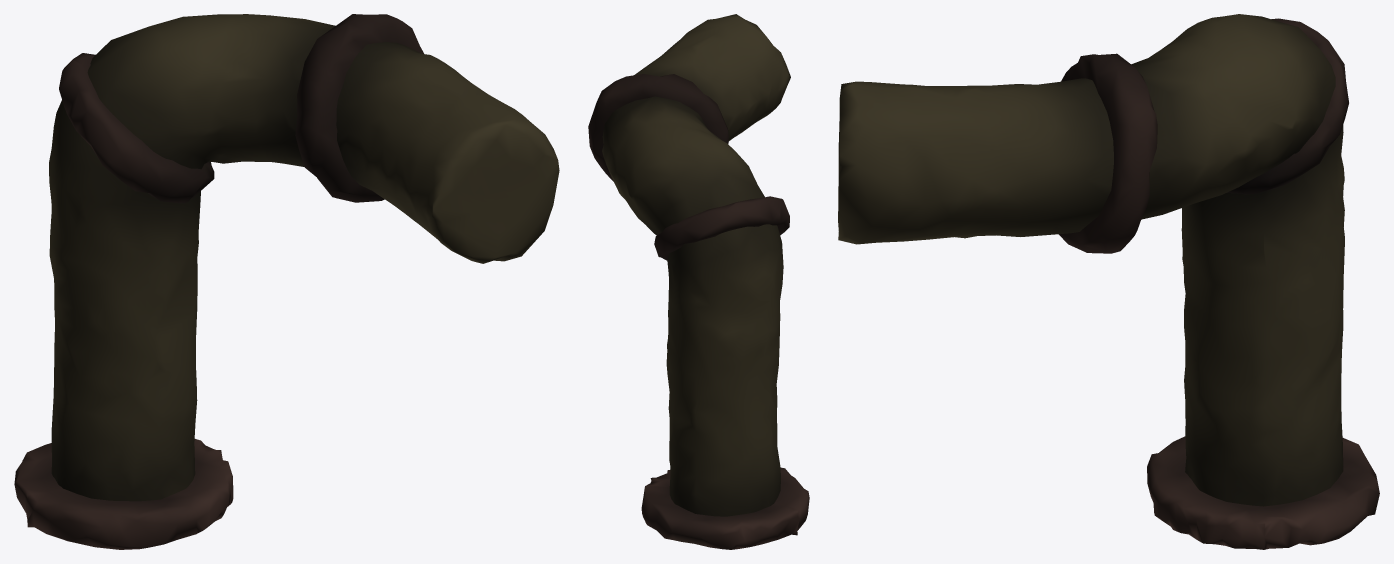
Rendered from msh_Pipe_02.fbx.
3 renders of one model, left to right at view 1: azimuth 30°, elevation 25°; view 2: azimuth 150°, elevation 25°; view 3: azimuth 270°, elevation 25°, orthographic. The views are drawn at different scales.
Parts seen in each view (by area): view 1: pipe2; view 2: pipe2; view 3: pipe2.
Boxes of the visible parts, x1,y1,x2,y2 form: pipe2: (14, 14, 559, 549); pipe2: (588, 14, 809, 549); pipe2: (838, 14, 1379, 549).
Size of the model in its own units: 1.04 by 1.44 by 1.33.
